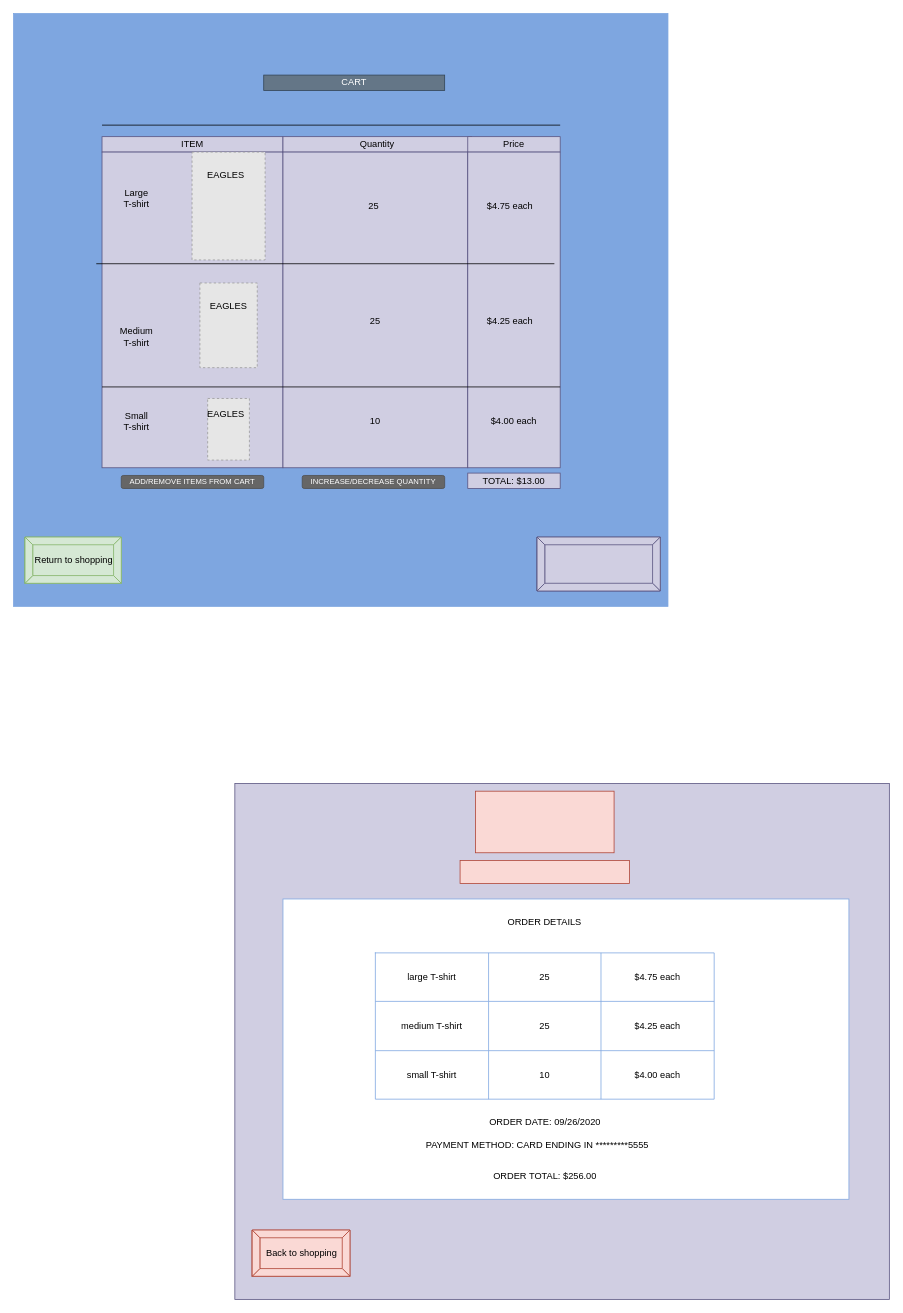
This 903x1313 diagram has some shape labels left out. Grey dashed boxes stand in for pictures. Here are the shapes that lost their labels. From the top down, the centre of each, then its label:
At point (598, 563): "ENTER PAYMENT INFO".
At point (544, 821): "Order Conformation".
At point (544, 872): "Congratulations your order was placed!".
